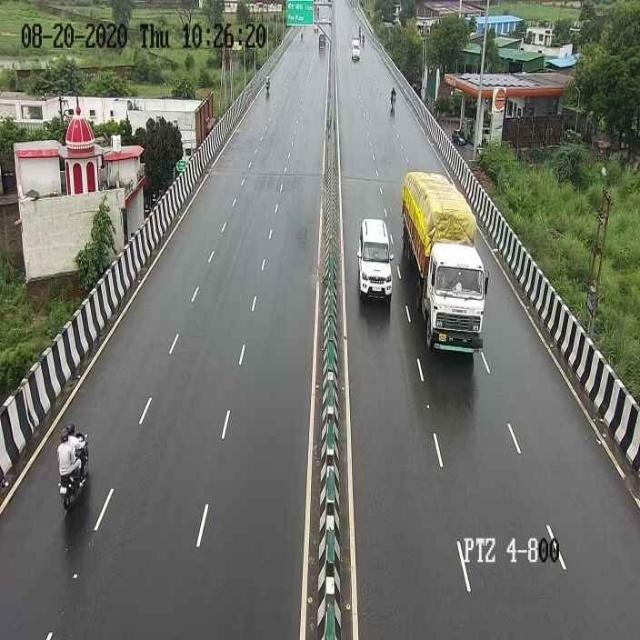car: (352, 209, 395, 312)
